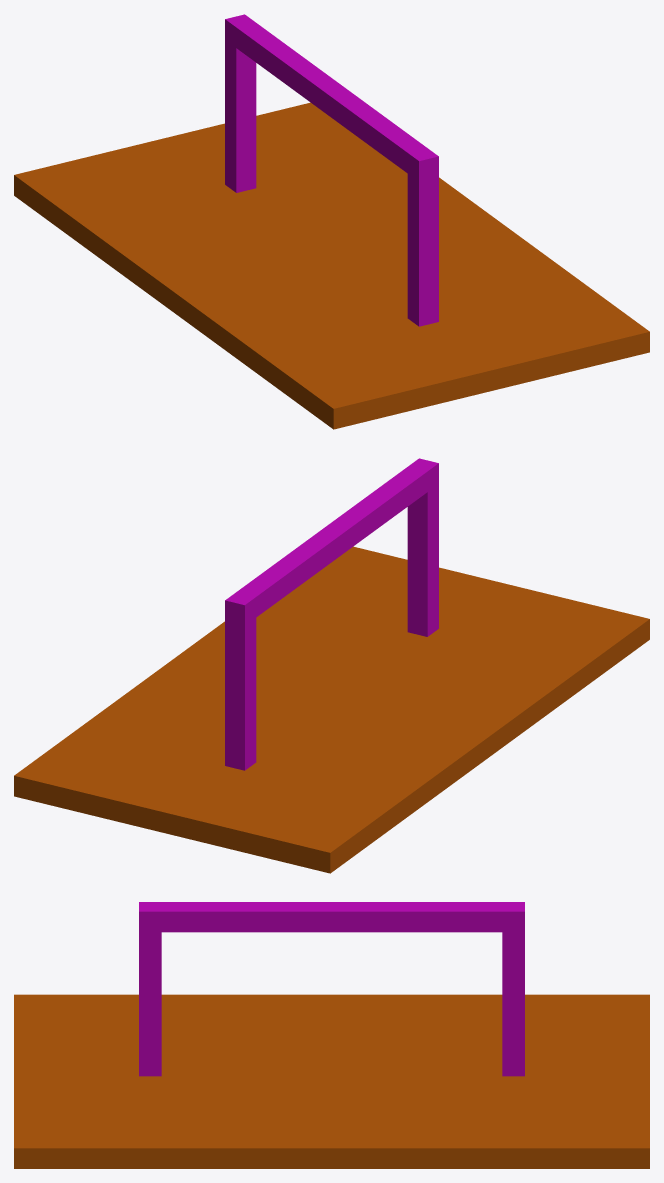
File: marker_bin_lid.dae
3 renders of one model, top to bottom at view 1: azimuth 30°, elevation 25°; view 2: azimuth 150°, elevation 25°; view 3: azimuth 270°, elevation 25°, orthographic.
Visible parts, largest first — view 1: Lid, handle; view 2: Lid, handle; view 3: Lid, handle.
Boxes of the visible parts, x1,y1,x2,y2 form: Lid: [14, 102, 649, 429]; handle: [225, 14, 438, 326]; Lid: [14, 546, 649, 873]; handle: [225, 458, 438, 770]; Lid: [14, 994, 649, 1168]; handle: [139, 902, 524, 1076].
Bounding box in the file's own units: 0.2032 × 0.3556 × 0.1143.
